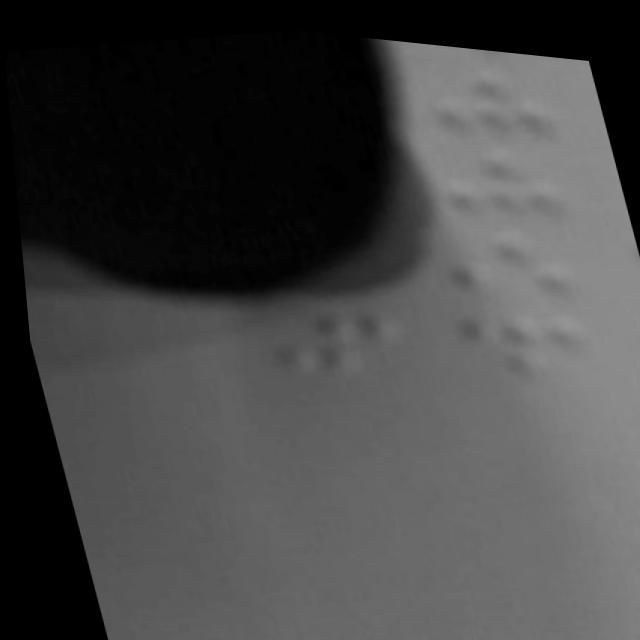braiile: (403, 33, 569, 146), (435, 278, 604, 388), (427, 195, 586, 308), (249, 286, 416, 392), (425, 118, 587, 224)
